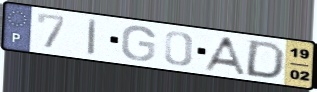0: (163, 30, 195, 67)
7: (35, 11, 67, 51)
A: (200, 34, 248, 77)
D: (243, 39, 288, 80)
G: (119, 24, 158, 62)
I: (86, 17, 99, 58)
